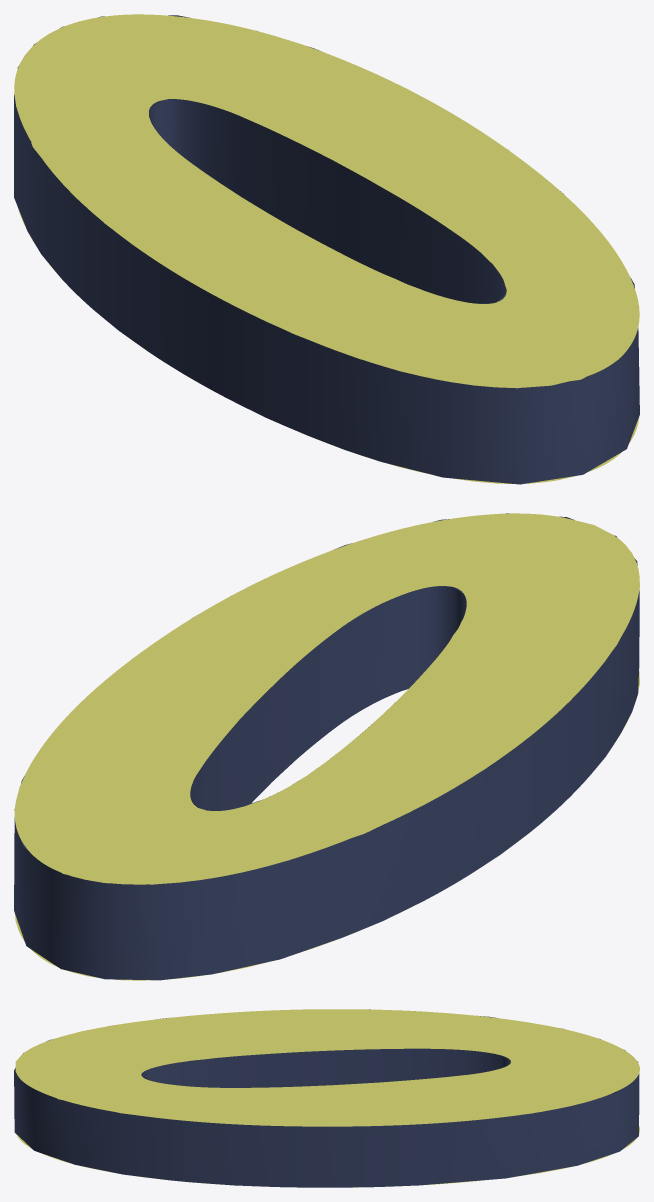
File: o_boss.fbx
3 renders of one model, top to bottom at view 1: azimuth 30°, elevation 25°; view 2: azimuth 150°, elevation 25°; view 3: azimuth 270°, elevation 25°, orthographic. The views are drawn at different scales.
Visible parts, largest first — view 1: O; view 2: O; view 3: O.
Part boxes in pixels (x1,y1,x2,y2): O: (14,14,639,484); O: (14,513,639,980); O: (14,1009,639,1187).
Size of the model in its own units: 0.6603 by 0.1599 by 1.49.
